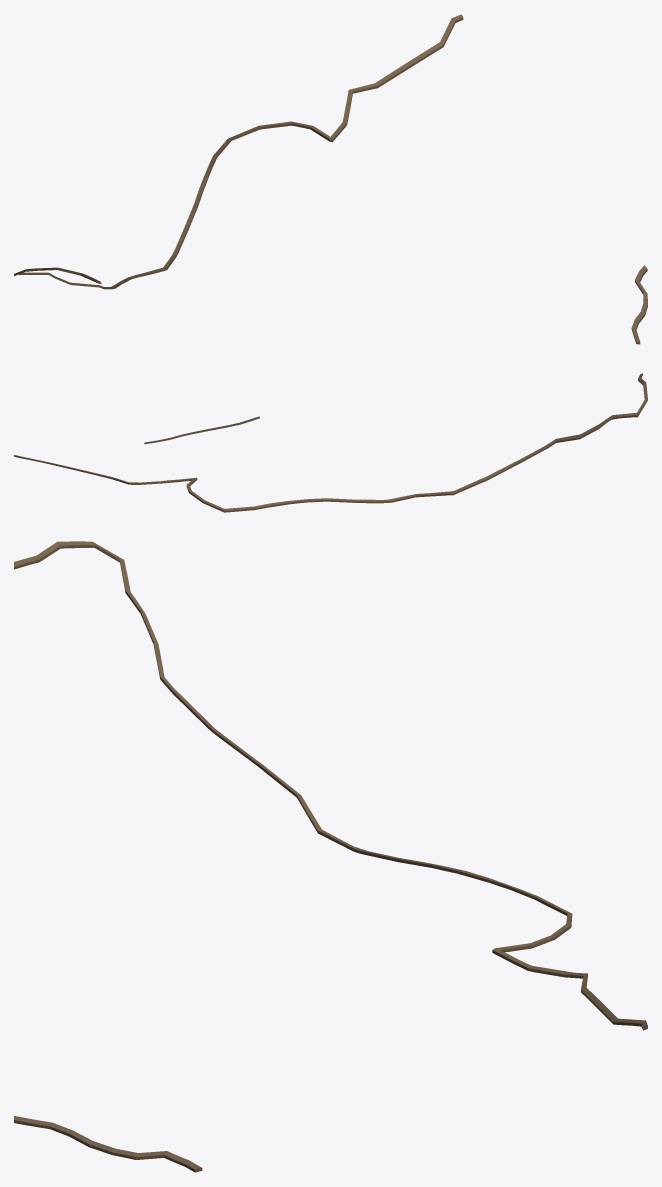
3 renders of one model, top to bottom at view 1: azimuth 30°, elevation 25°; view 2: azimuth 150°, elevation 25°; view 3: azimuth 270°, elevation 25°, orthographic. The views are drawn at different scales.
Size of the model in its own units: 207 by 61.13 by 141.
